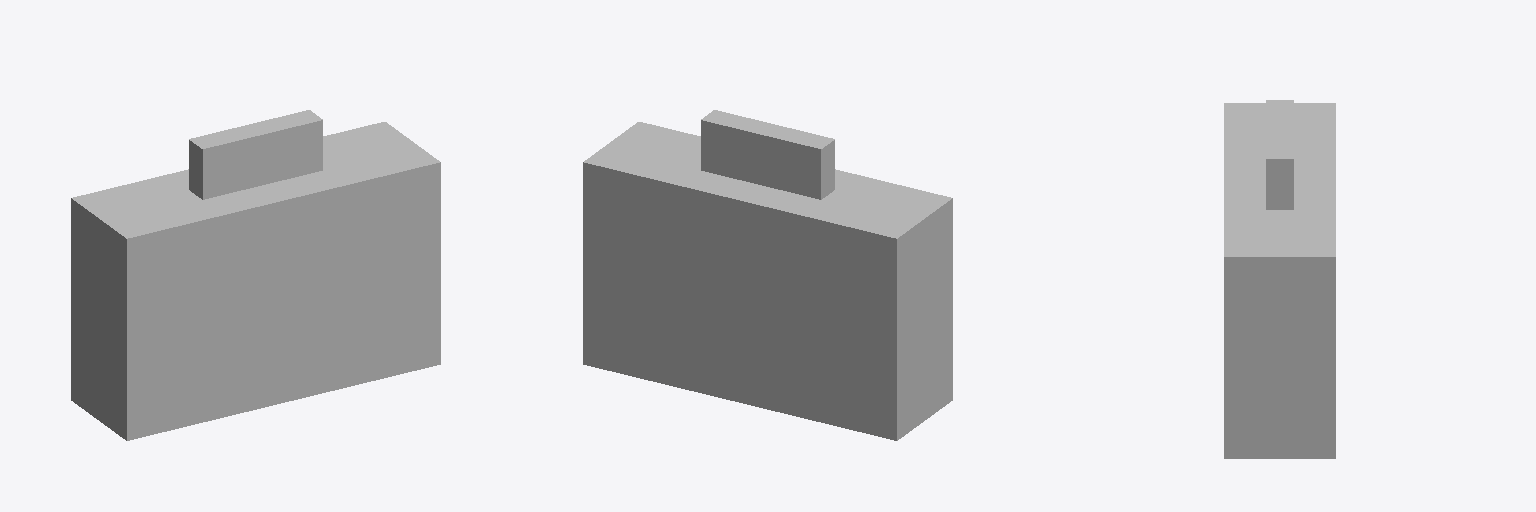
File: radio.obj
The picture shows the model from 3 angles: view 1: azimuth 30°, elevation 25°; view 2: azimuth 150°, elevation 25°; view 3: azimuth 270°, elevation 25°; orthographic projection.
Visible parts, largest first — view 1: Block, Block1; view 2: Block, Block1; view 3: Block, Block1.
Boxes of the visible parts, x1=… form: Block: x1=71, y1=122, x2=440, y2=440; Block1: x1=189, y1=110, x2=322, y2=199; Block: x1=583, y1=122, x2=952, y2=440; Block1: x1=701, y1=110, x2=834, y2=199; Block: x1=1224, y1=103, x2=1335, y2=458; Block1: x1=1266, y1=100, x2=1293, y2=209.
Bounding box in the file's own units: 0.8125 × 0.625 × 0.25.